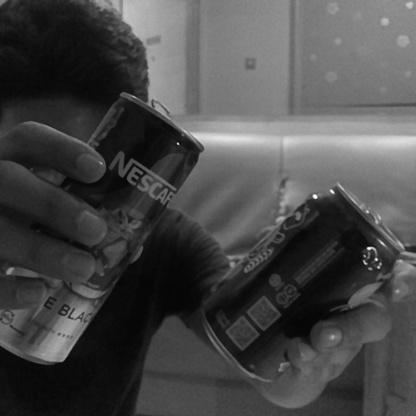alumunium_can: (0, 90, 209, 364), (195, 184, 409, 380)
